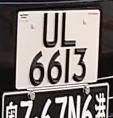1: (62, 48, 72, 85)
3: (71, 47, 87, 86)
6: (27, 52, 47, 90), (45, 51, 64, 86)
L: (60, 10, 79, 51)
U: (39, 10, 61, 52)
